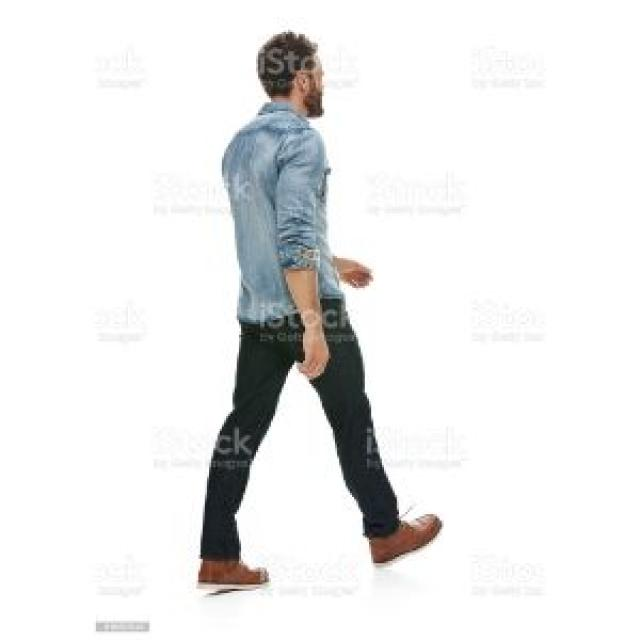nonfall: (134, 26, 471, 592)
